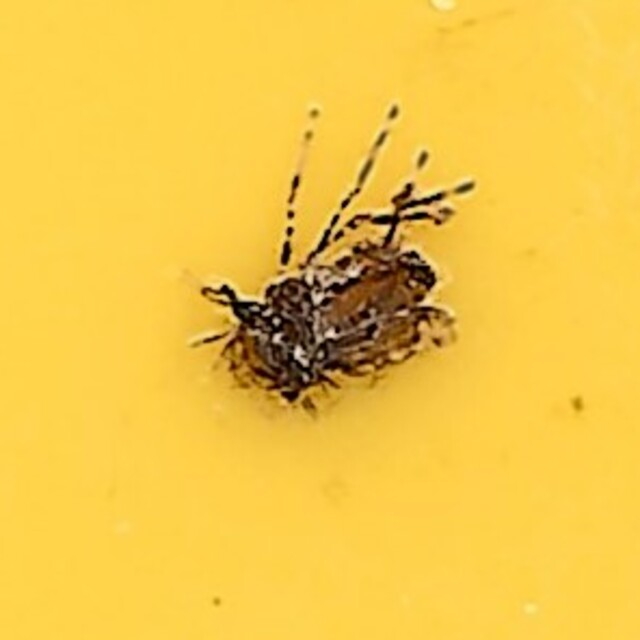Nematocera: (216, 242, 424, 398)
